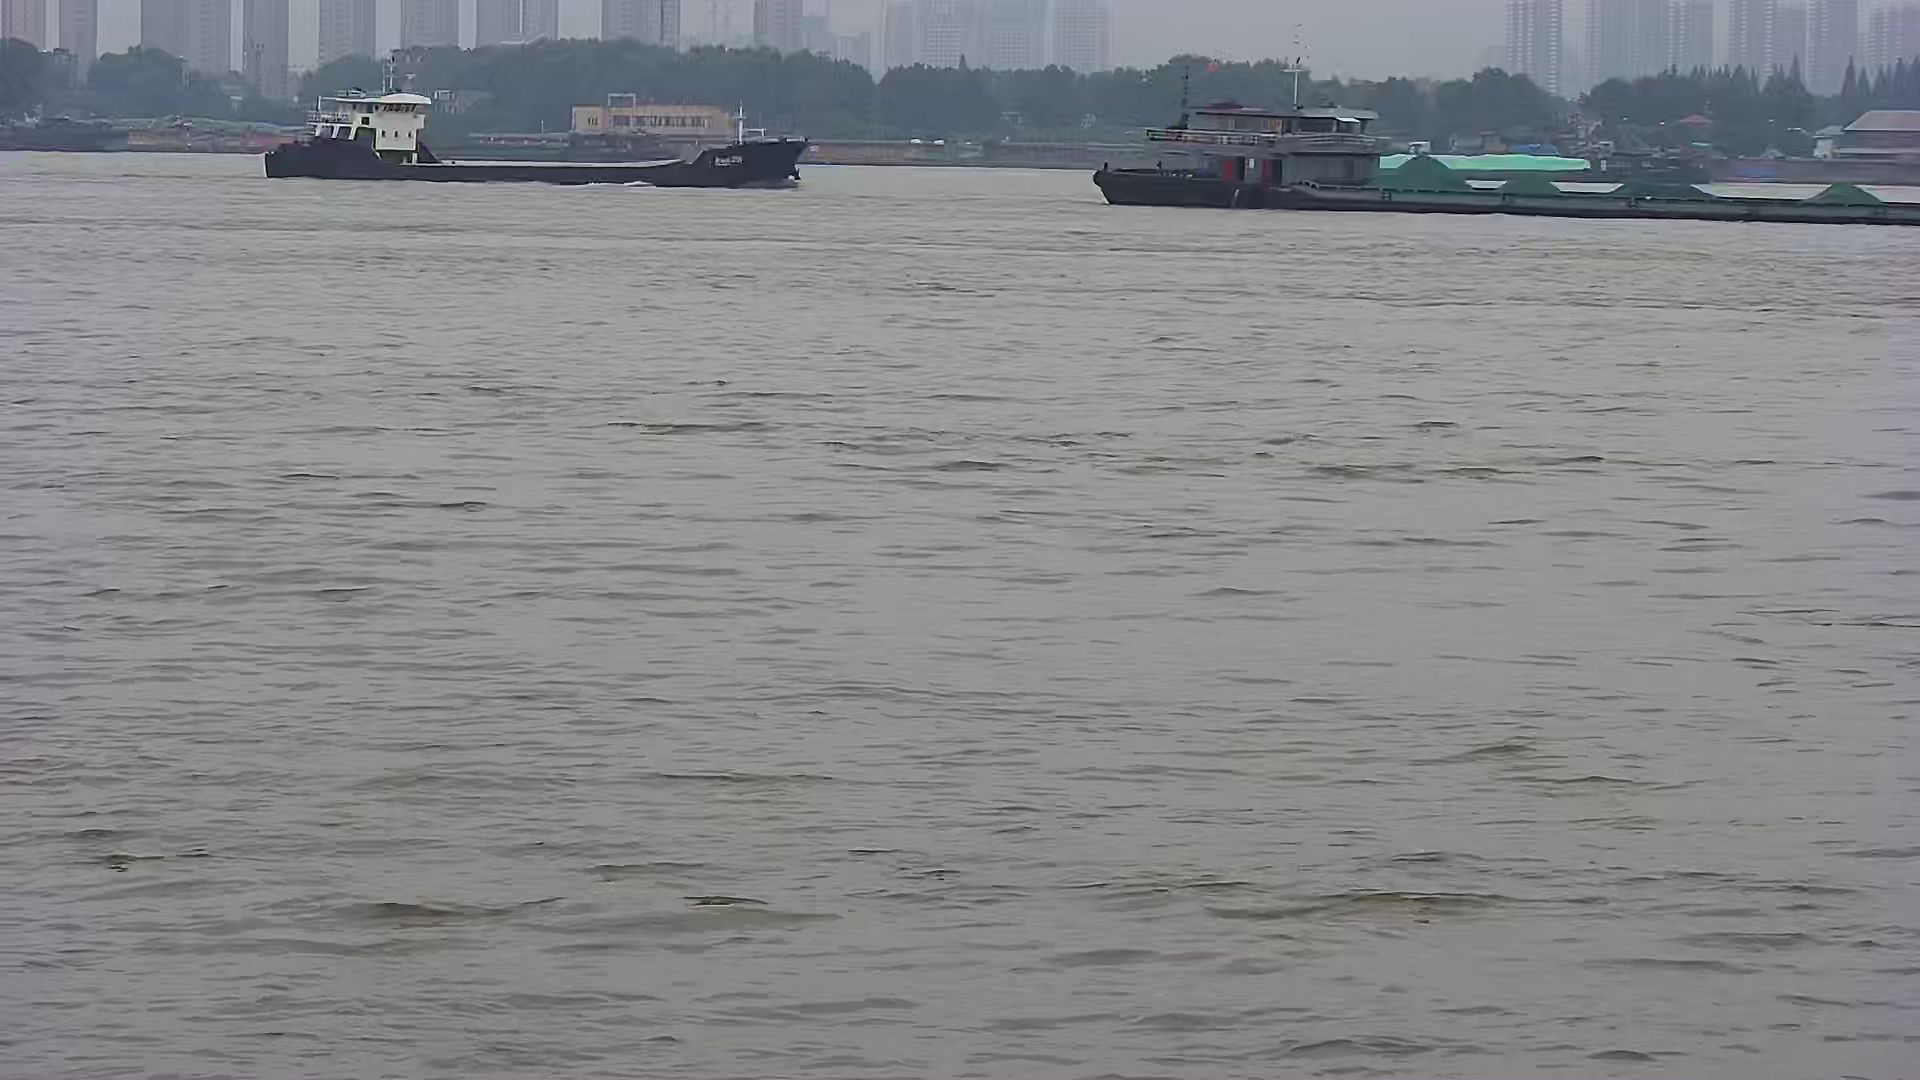ship: (1080, 11, 1920, 241), (247, 69, 820, 190)
